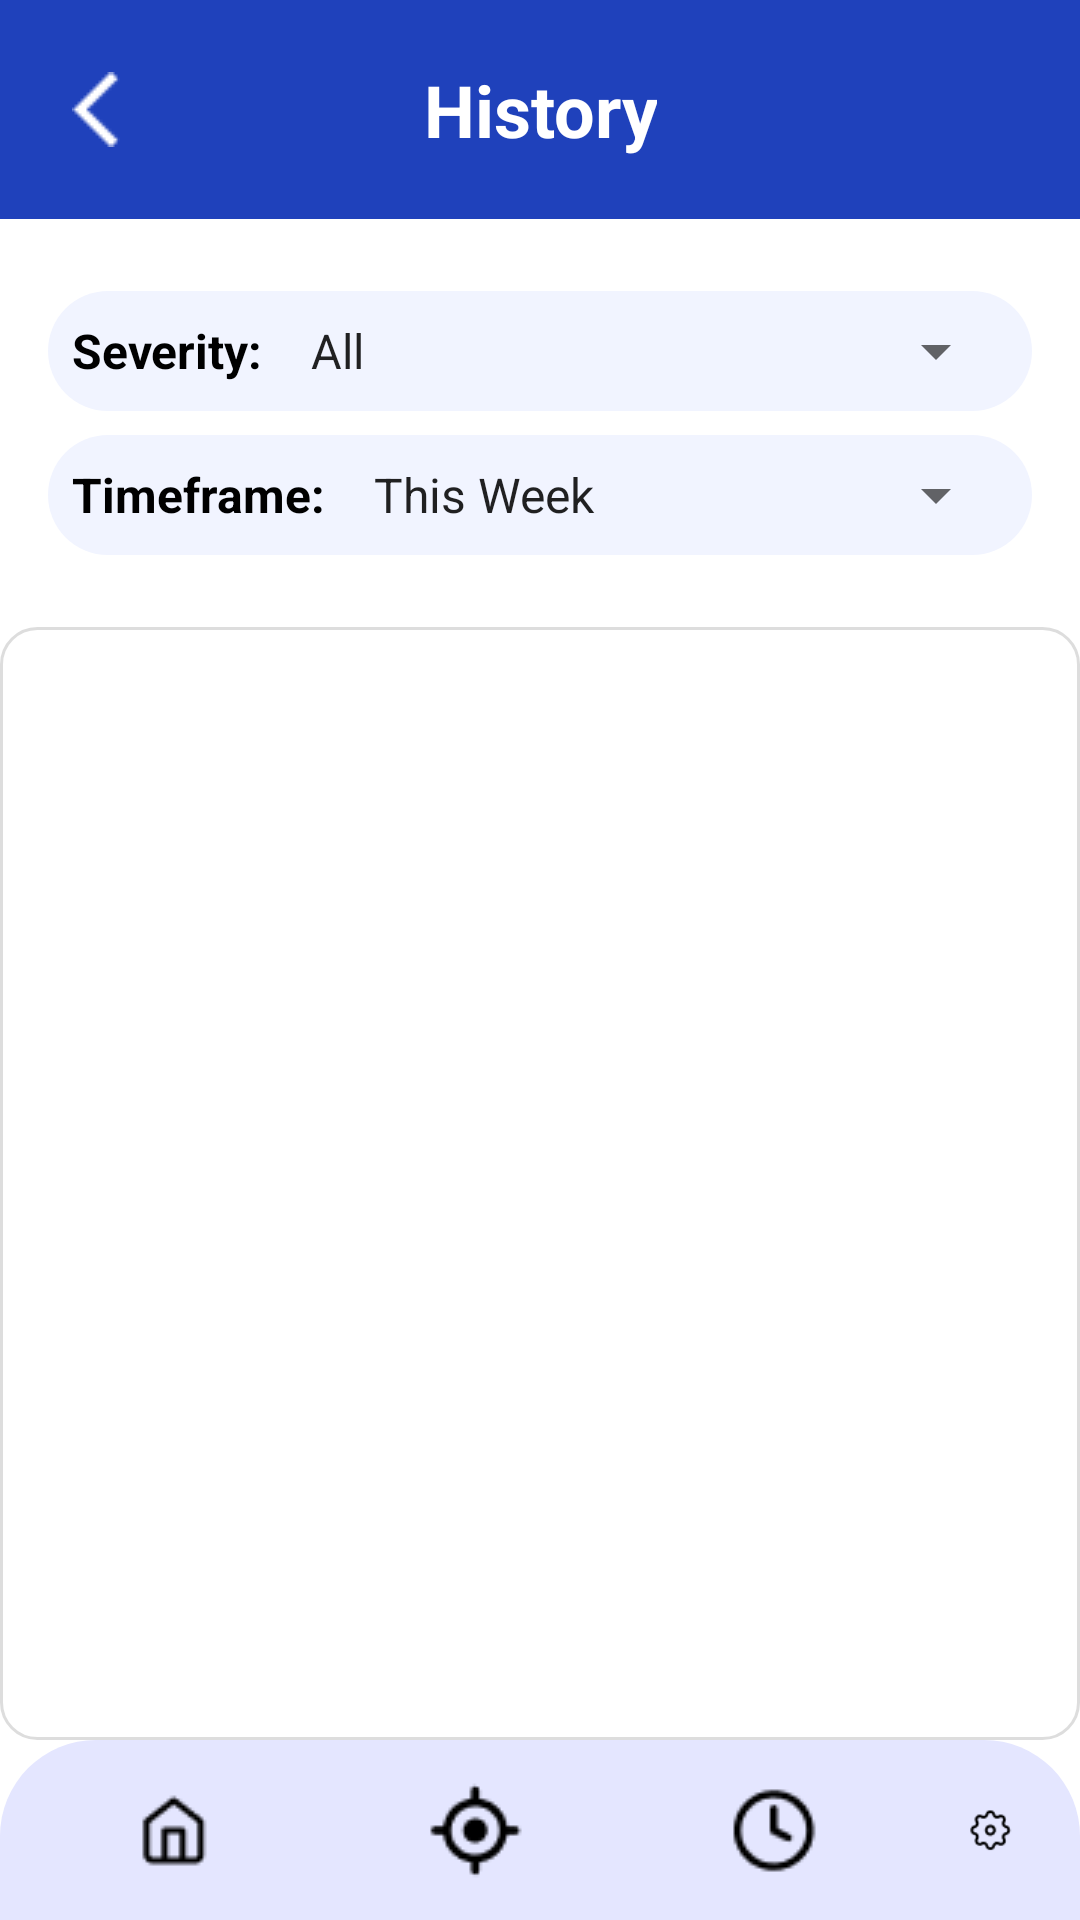

Named icons in this screenshot (1080w x 1920h) and their bounding boxes, detection(x1, y1, x2, y2):
Back: detection(72, 72, 118, 147)
Open home: detection(142, 1795, 206, 1866)
Open maps: detection(430, 1785, 522, 1875)
Open report history: detection(733, 1789, 816, 1872)
Open settings: detection(970, 1810, 1011, 1850)
